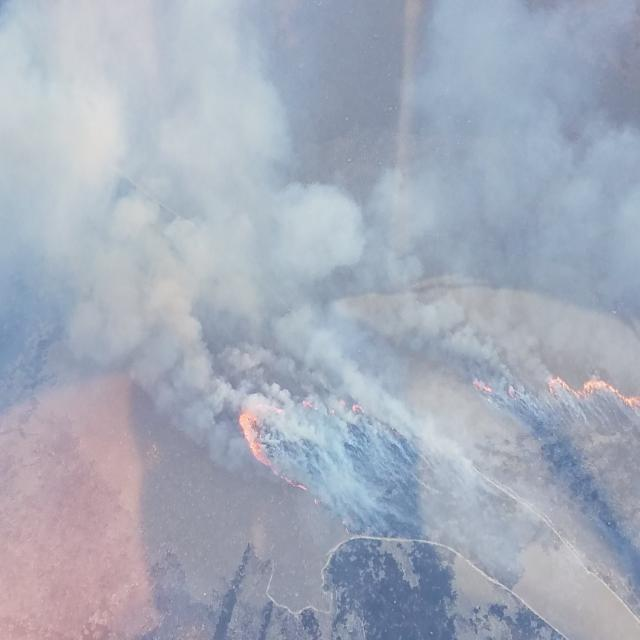Fire: (236, 395, 308, 493), (538, 368, 640, 423), (470, 379, 492, 398)
Smoke: (0, 0, 506, 574), (0, 0, 557, 434)
